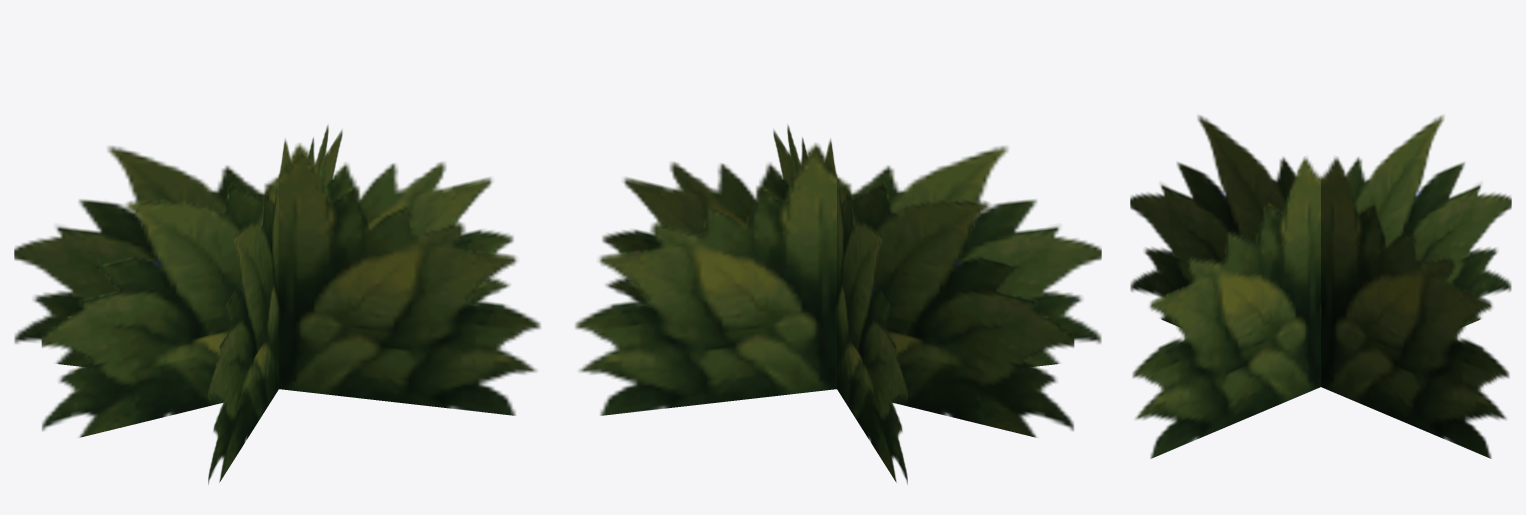
Rendered from lp_sprout_b.glb.
3 views of the same model, side by side, from view 1: azimuth 30°, elevation 25°; view 2: azimuth 150°, elevation 25°; view 3: azimuth 270°, elevation 25° (orthographic).
Visible parts, largest first — view 1: lp_sprout_b; view 2: lp_sprout_b; view 3: lp_sprout_b.
Boxes of the visible parts, box(x1,y1,x2,y2) form: lp_sprout_b: box(14, 125, 540, 484); lp_sprout_b: box(575, 125, 1101, 484); lp_sprout_b: box(1130, 115, 1511, 458).
Size of the model in its own units: 0.5787 by 0.3069 by 0.4092.
Materials: 1 (1 with a texture image).
